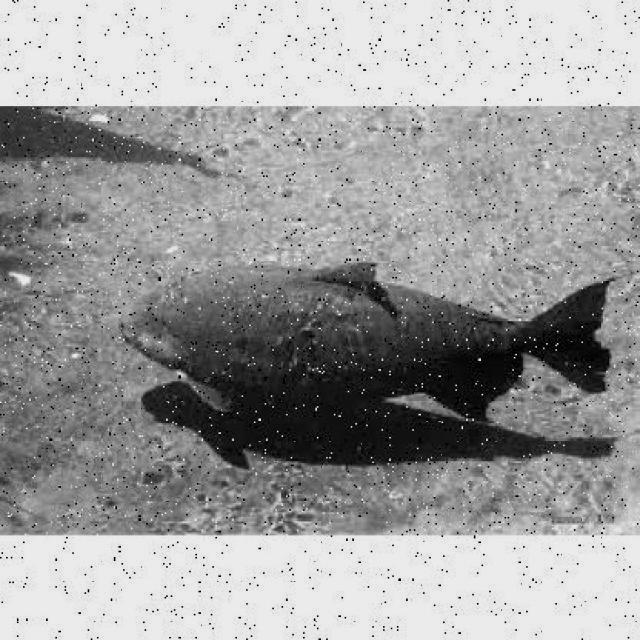ikan-pacu: (120, 258, 585, 410)
